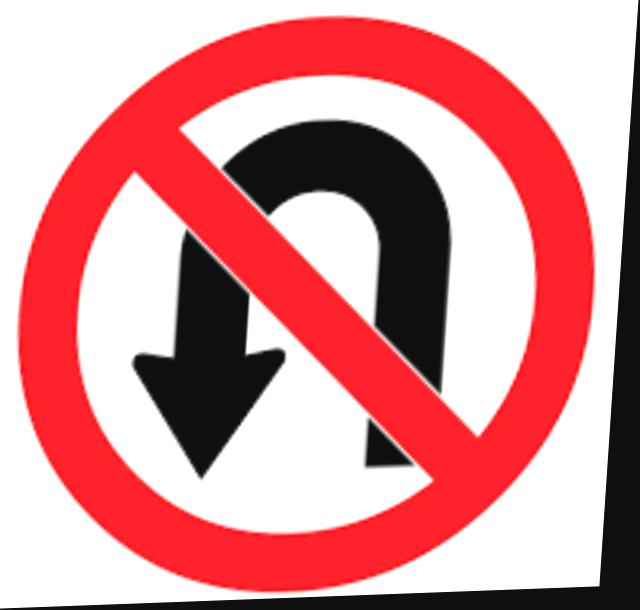not_u_turn_left: (3, 10, 614, 593)
